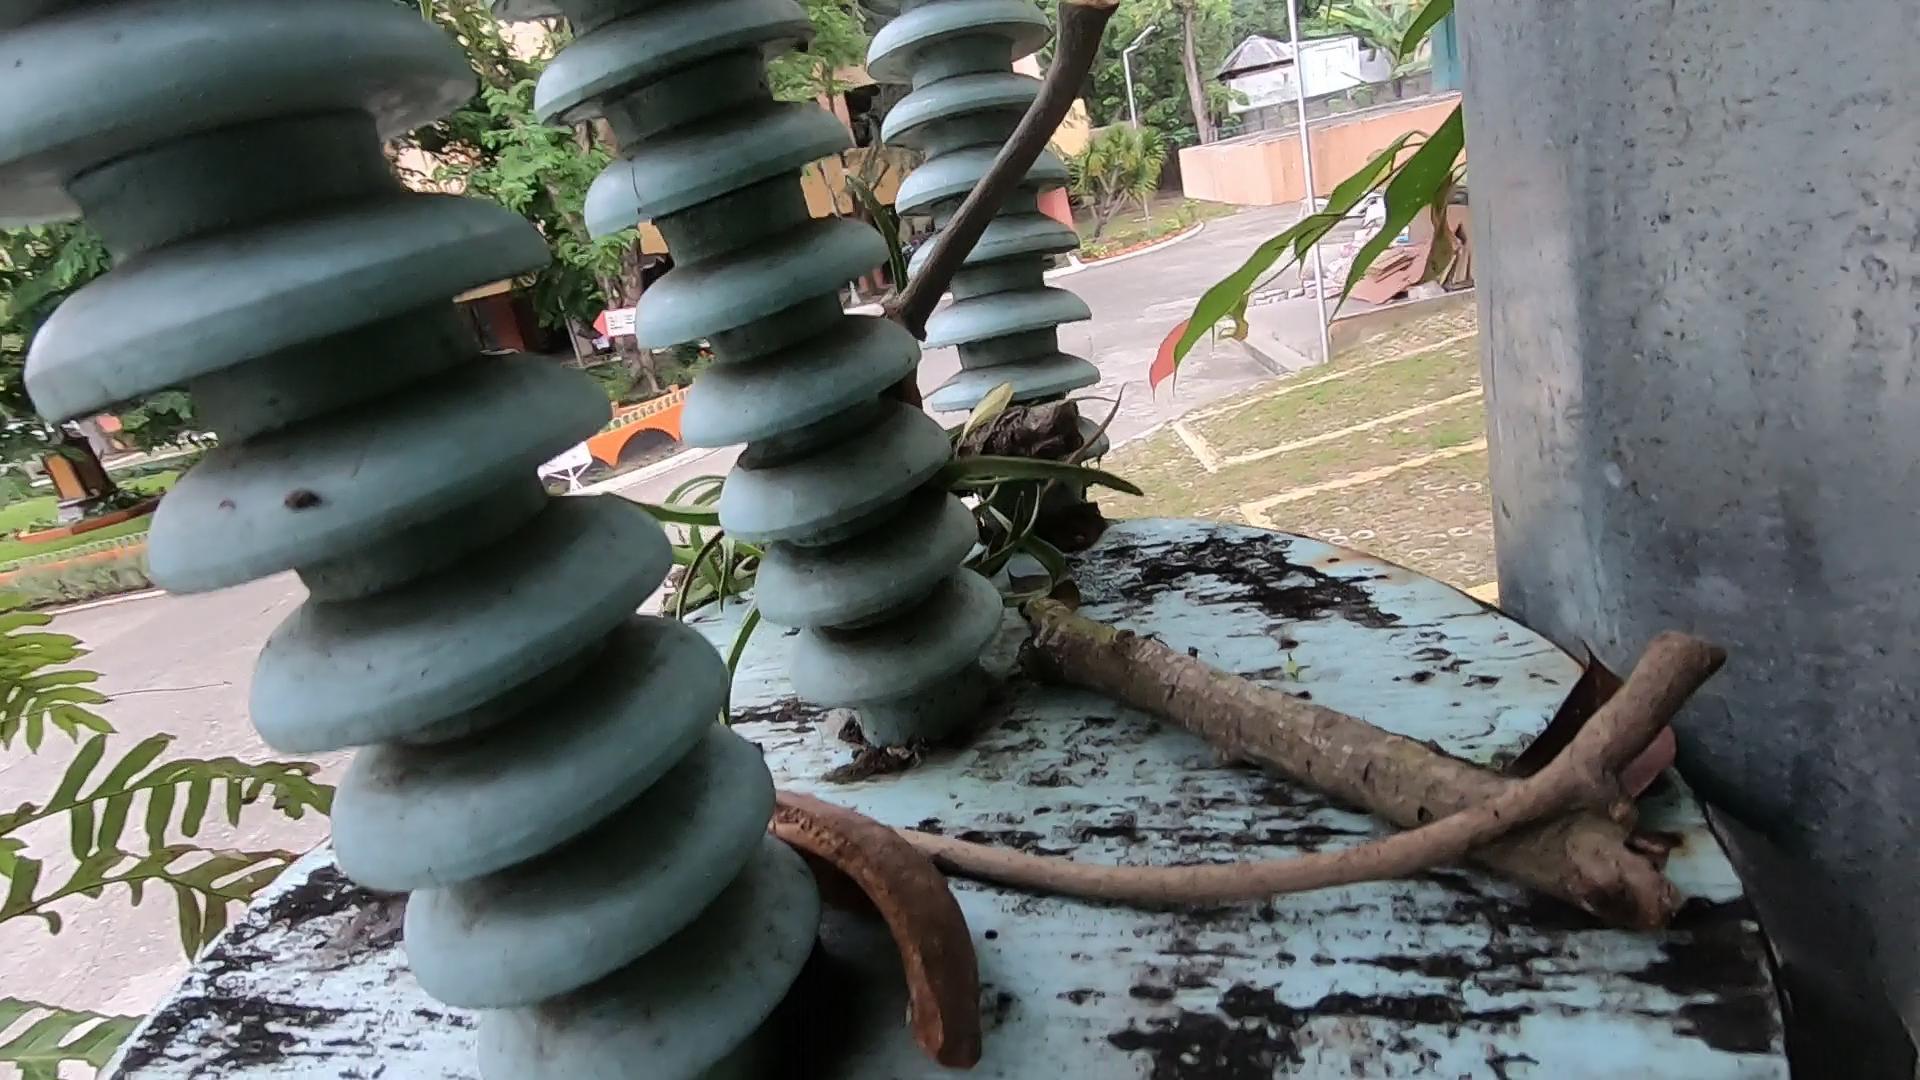branch with leaves: (837, 269, 1743, 971)
mahogany fruit: (694, 727, 1021, 1080)
tree branch: (839, 624, 1836, 932), (866, 1, 1085, 425)
